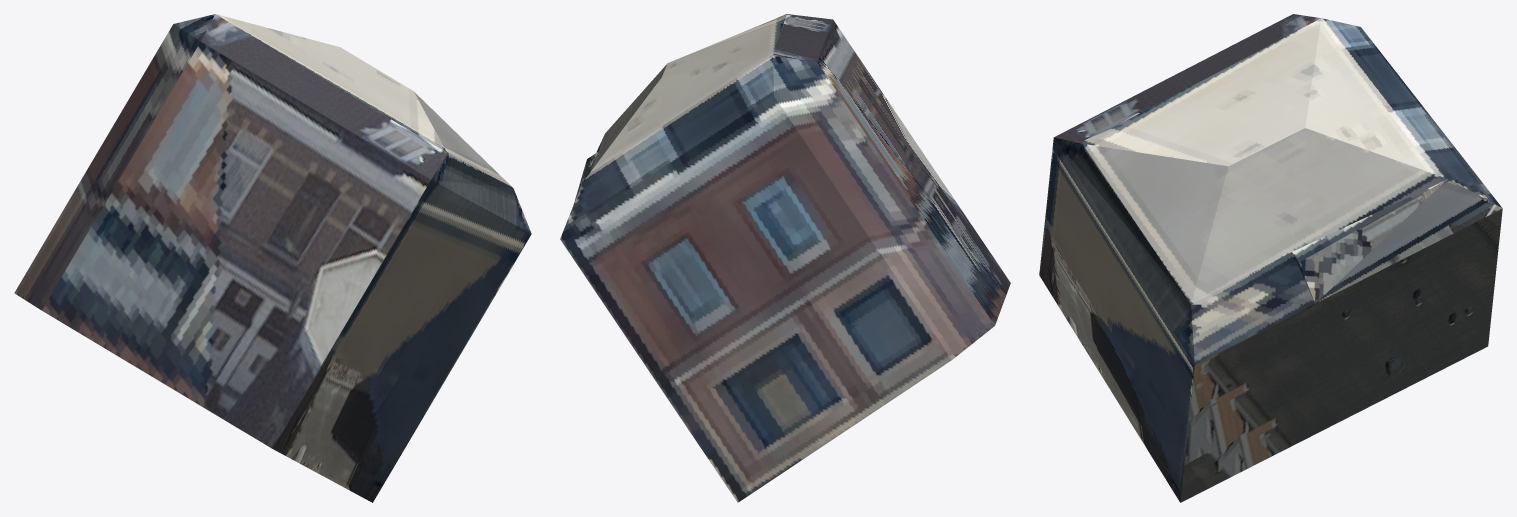
3 views of the same model, side by side, from view 1: azimuth 30°, elevation 25°; view 2: azimuth 150°, elevation 25°; view 3: azimuth 270°, elevation 25° (orthographic). The views are drawn at different scales.
Parts seen in each view (by area): view 1: BAG_0599100000650084 (×4); view 2: BAG_0599100000650084 (×5); view 3: BAG_0599100000650084 (×5).
Boxes of the visible parts, x1=… form: BAG_0599100000650084 (×4): x1=14, y1=14, x2=531, y2=502; BAG_0599100000650084 (×5): x1=560, y1=14, x2=1010, y2=502; BAG_0599100000650084 (×5): x1=1039, y1=14, x2=1502, y2=502.
Bounding box in the file's own units: 14.55 × 14.2 × 13.43.
Materials: 1 (1 with a texture image).
